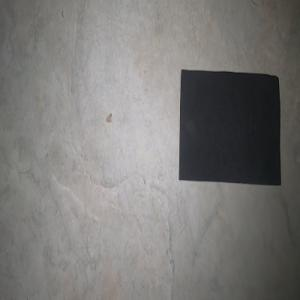PaintChip: (178, 68, 281, 185)
